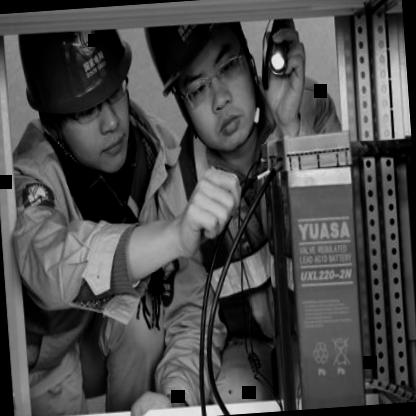helmet: (14, 13, 155, 190), (152, 9, 286, 166)
